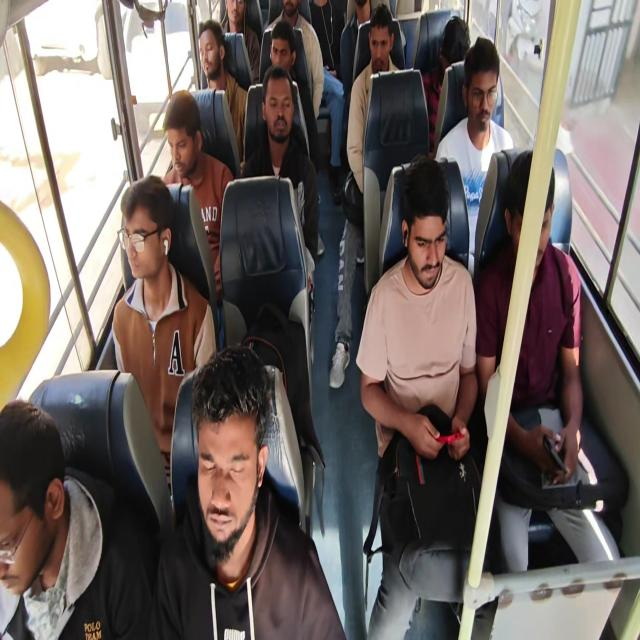person: (355, 156, 495, 638), (474, 148, 624, 574), (149, 343, 347, 639), (0, 398, 153, 638), (111, 175, 217, 496), (328, 3, 402, 389), (434, 36, 514, 277), (242, 64, 319, 298), (160, 89, 234, 299), (304, 0, 346, 204), (197, 19, 248, 161), (264, 0, 324, 119), (421, 16, 471, 153), (220, 0, 260, 84), (339, 0, 372, 91), (308, 0, 346, 78), (268, 20, 297, 79)
